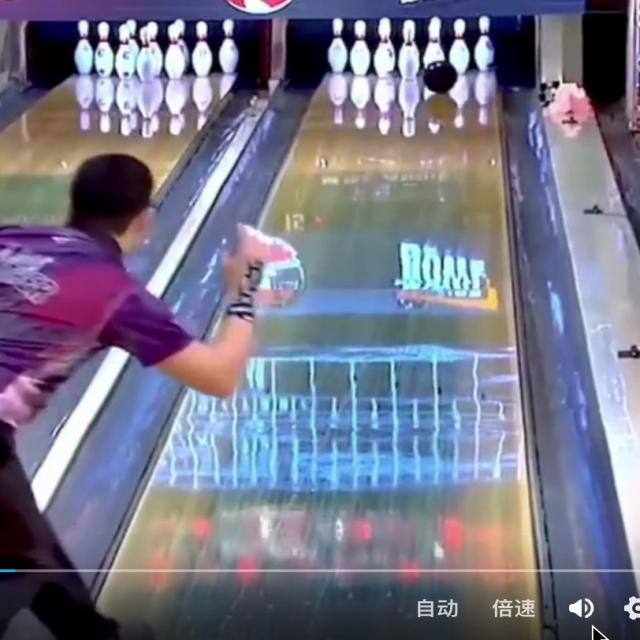alley: (100, 71, 538, 639)
balls: (424, 60, 456, 94)
bottle: (328, 19, 370, 75), (396, 20, 420, 79), (374, 18, 395, 76), (422, 17, 444, 68), (449, 19, 469, 75), (474, 16, 493, 71)
